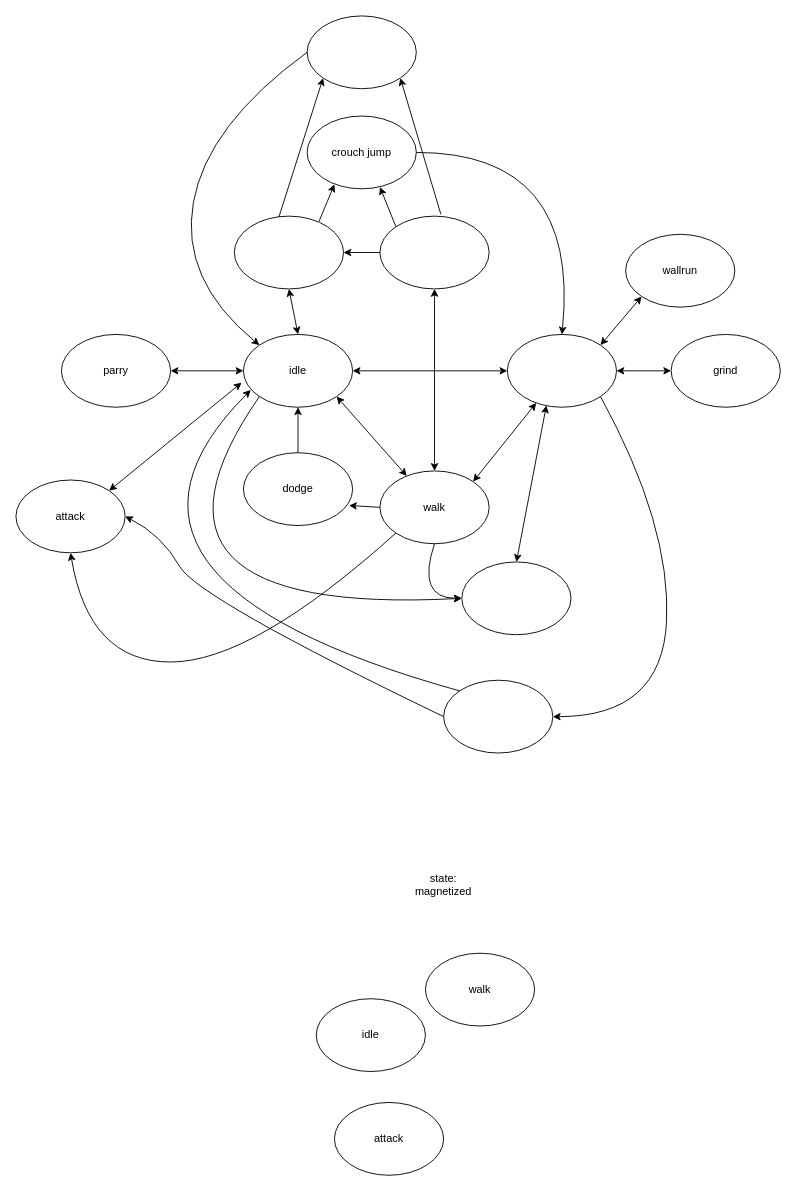
The diagram is 796 pixels wide and 1191 high, and some of its shapes have lost their labels. The centre of each missing label's shape, as x and y in pixels:
"air" goes at [561,370].
"attack air" goes at [498,716].
"crouch" goes at [288,252].
"crouch longjump" goes at [361,52].
"grapple" goes at [516,598].
"slide" goes at [434,252].
